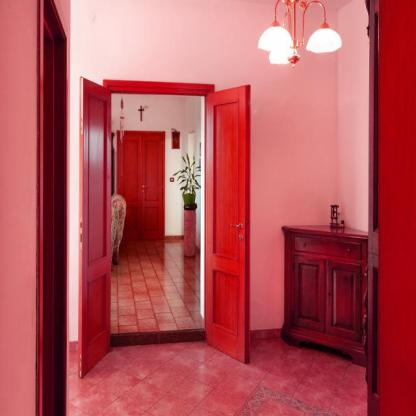door: (76, 68, 262, 381)
